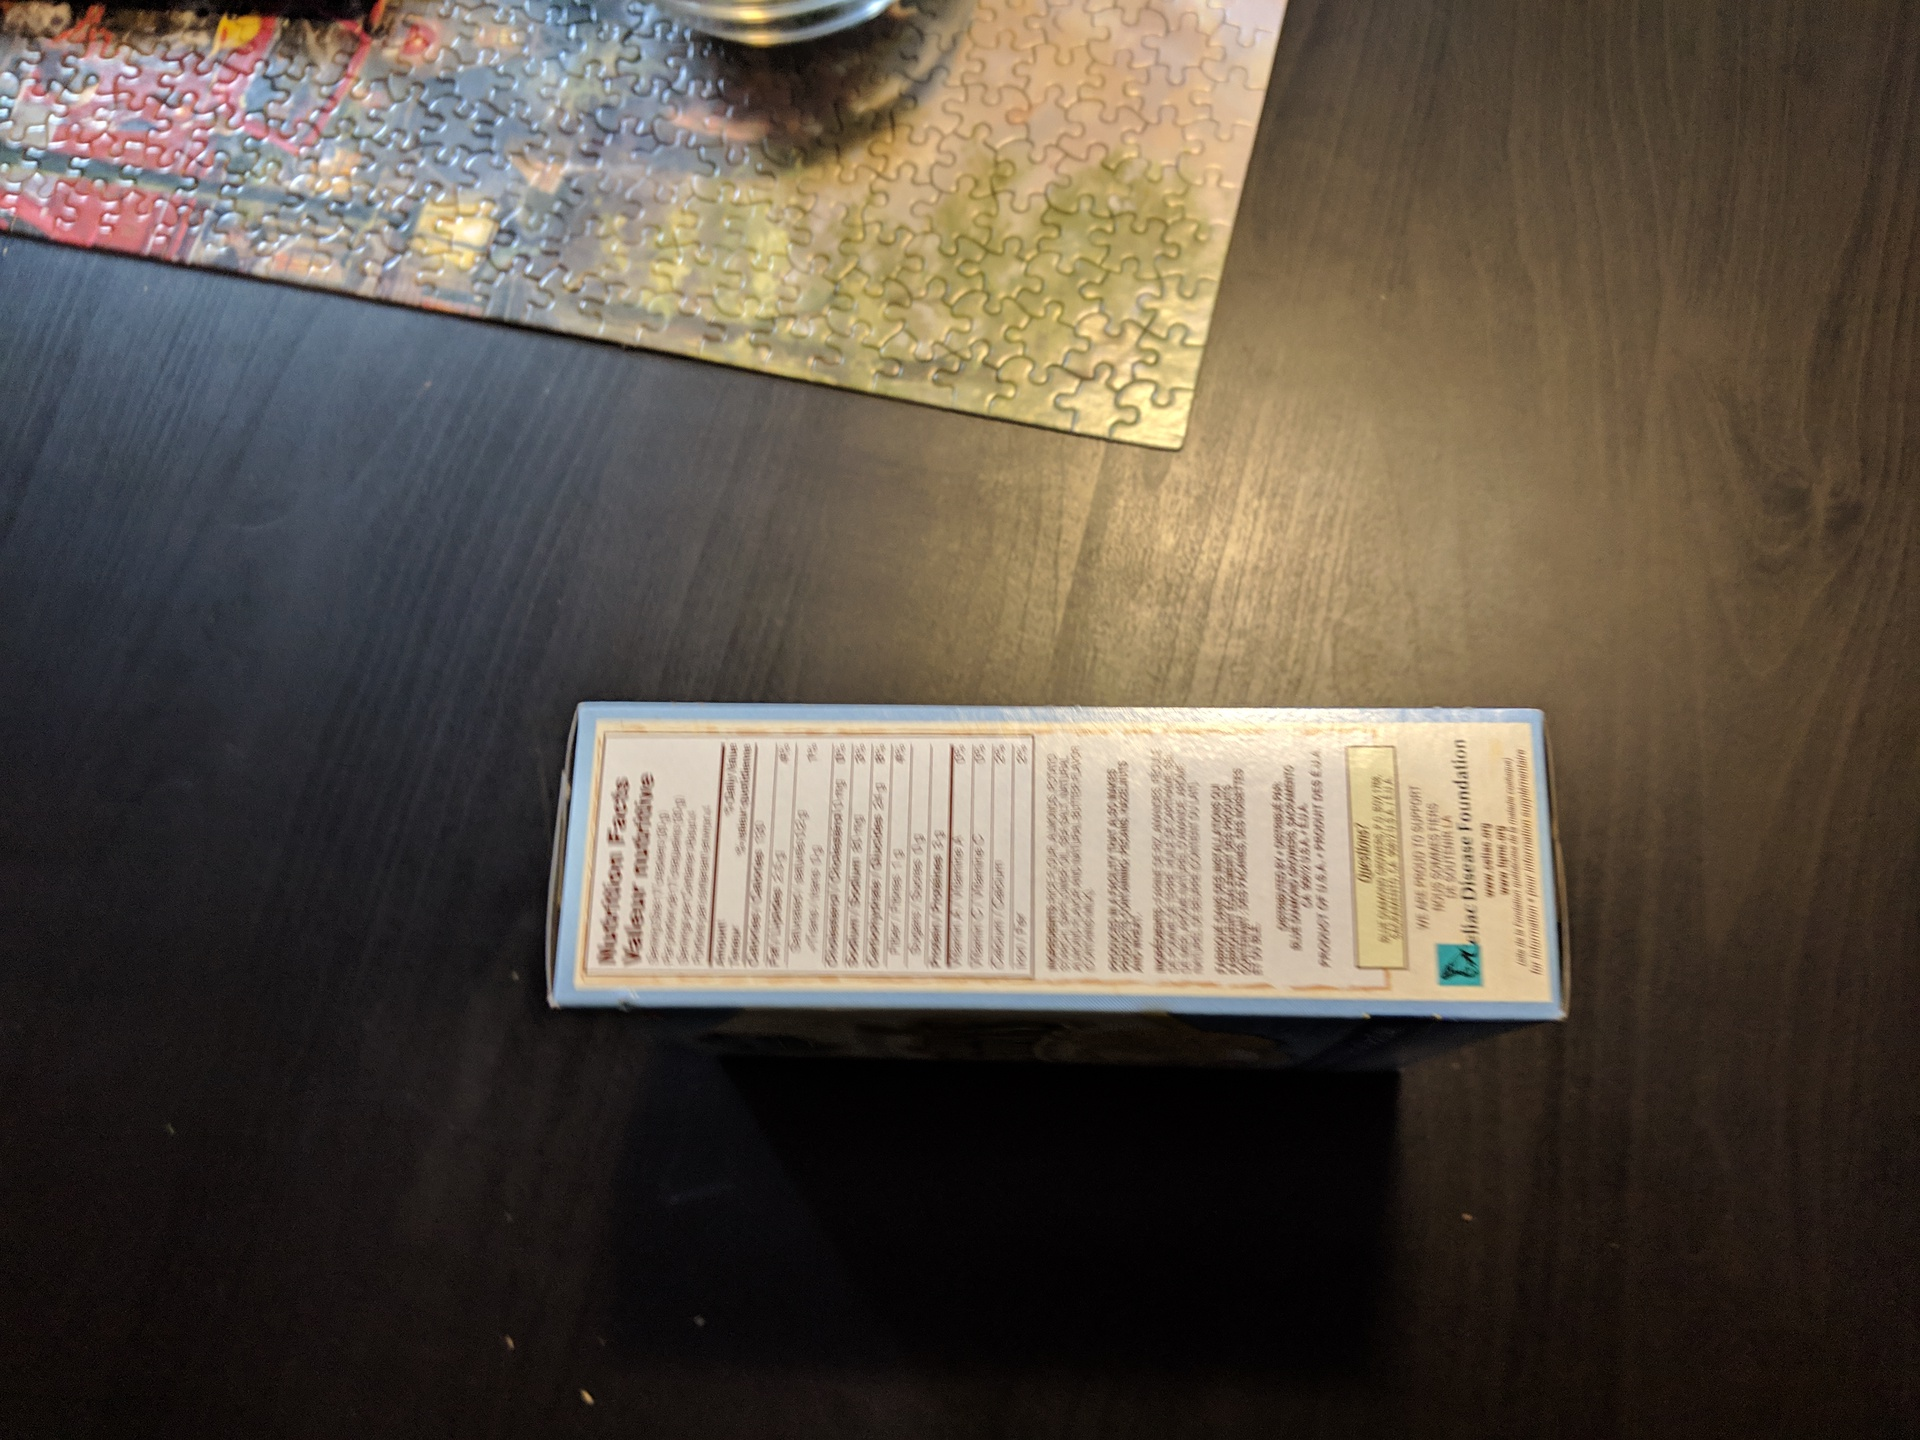blue_diamond_nut_thins_almond_seasalt: (565, 703, 1575, 1054)
